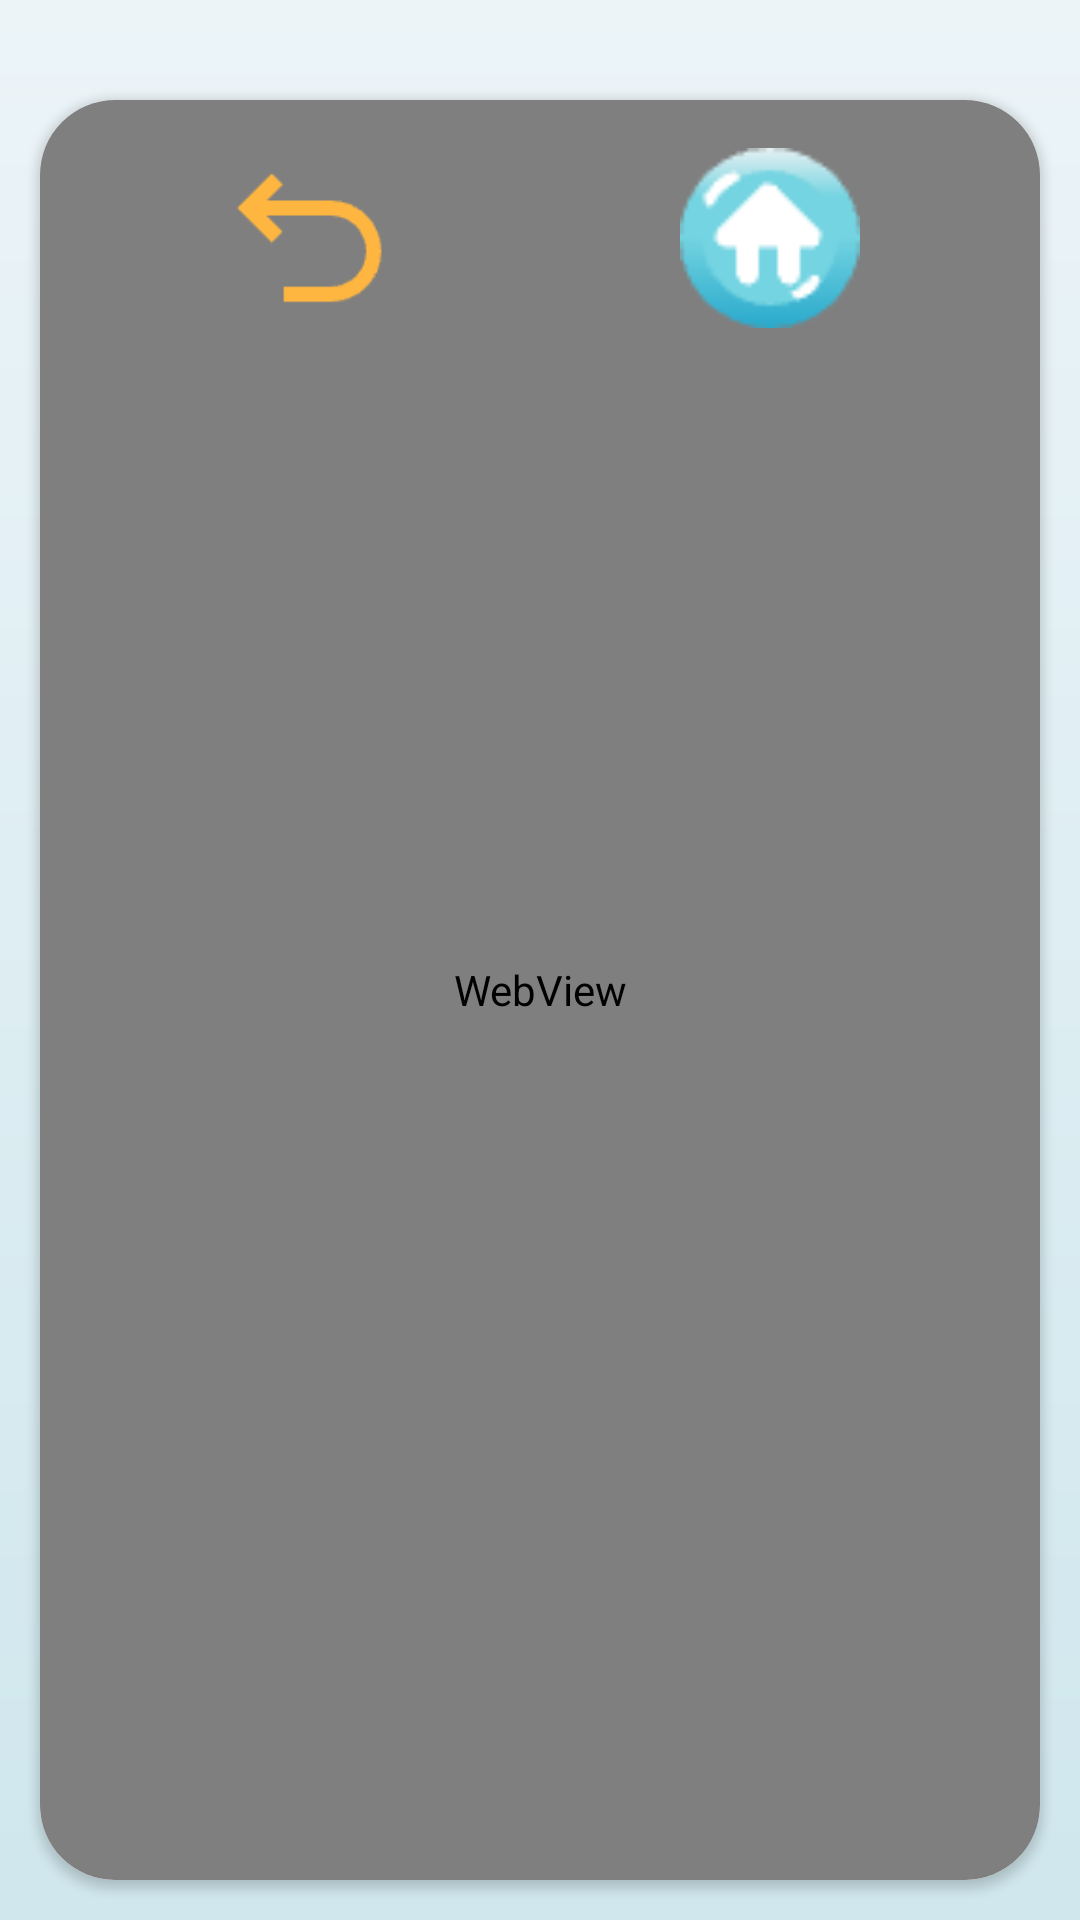

Icon click points for this 1080*1920 phone screenshot, format (x=x, y=y):
back: (x=309, y=238)
home: (x=770, y=238)
